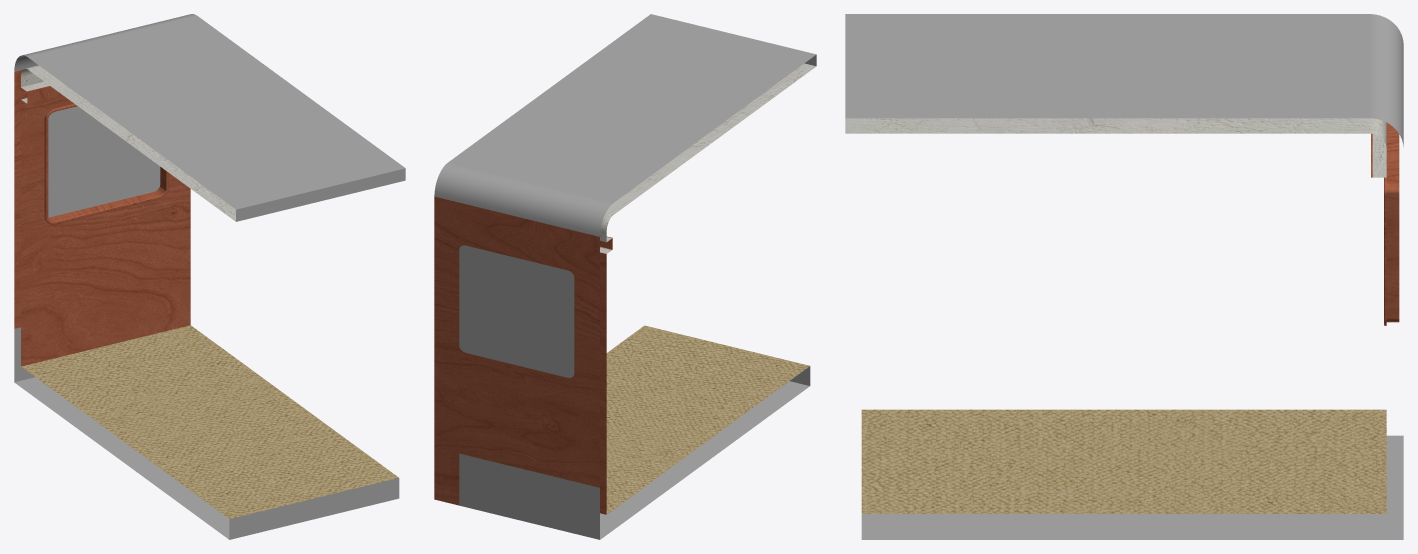
File: interiorWindow.fbx
The picture shows the model from 3 angles, left to right: view 1: azimuth 30°, elevation 25°; view 2: azimuth 150°, elevation 25°; view 3: azimuth 270°, elevation 25°; orthographic projection. The views are drawn at different scales.
Visible parts, largest first — view 1: pPipe2; view 2: pPipe2; view 3: pPipe2.
Part boxes in pixels (<box>): pPipe2: <box>14,14,405,539</box>; pPipe2: <box>434,14,816,539</box>; pPipe2: <box>845,14,1403,539</box>.
Size of the model in its own units: 3.51 by 6.62 by 7.94.
5 materials, 3 textured.
